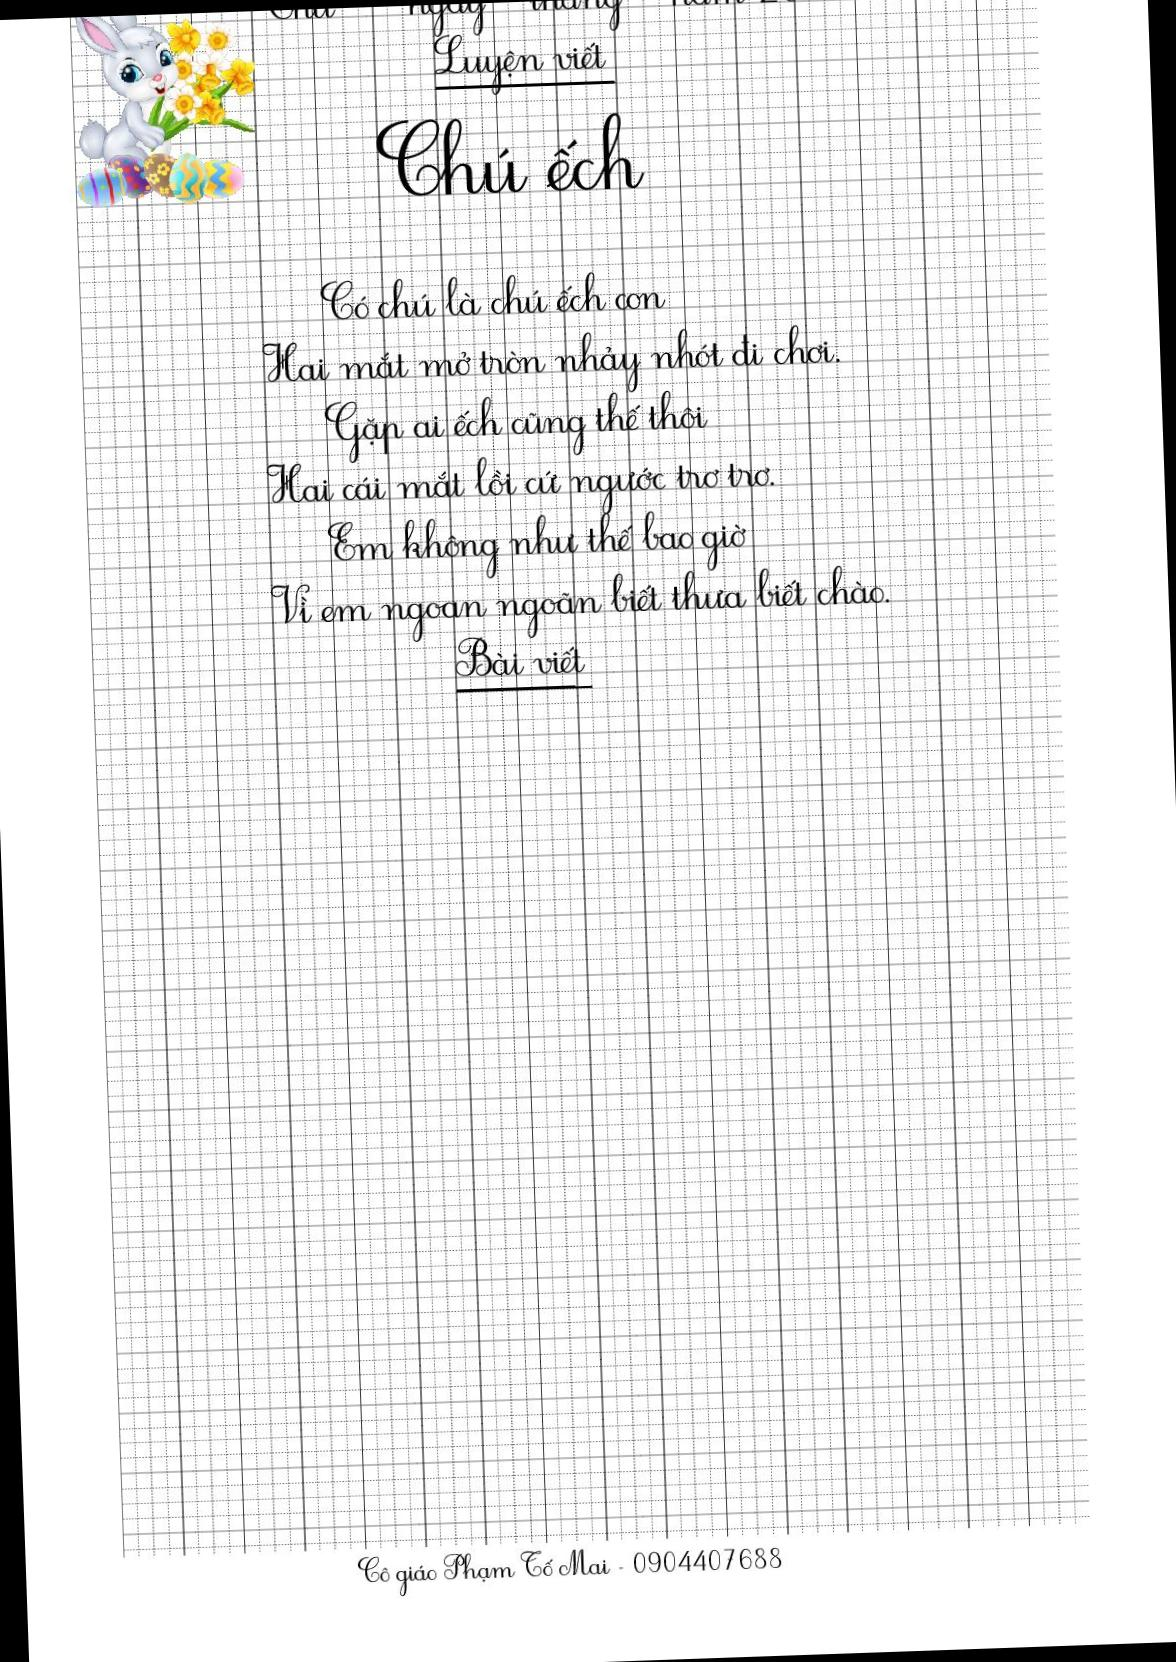text: (263, 560, 896, 654), (257, 318, 844, 410), (260, 442, 776, 528), (325, 503, 752, 585), (317, 386, 713, 466), (353, 1536, 788, 1601), (369, 104, 649, 205), (317, 263, 667, 325), (426, 24, 608, 99), (449, 630, 592, 683), (524, 0, 629, 37), (396, 3, 489, 39), (661, 0, 803, 11), (257, 8, 342, 25)
